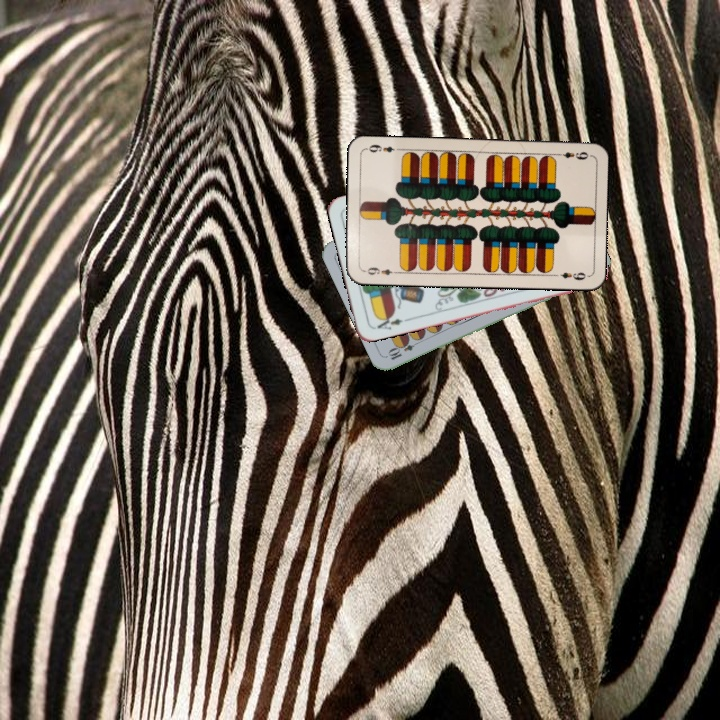E10: (384, 335, 423, 363)
E9: (360, 263, 400, 278), (551, 148, 591, 162)
EA: (370, 311, 410, 332)
